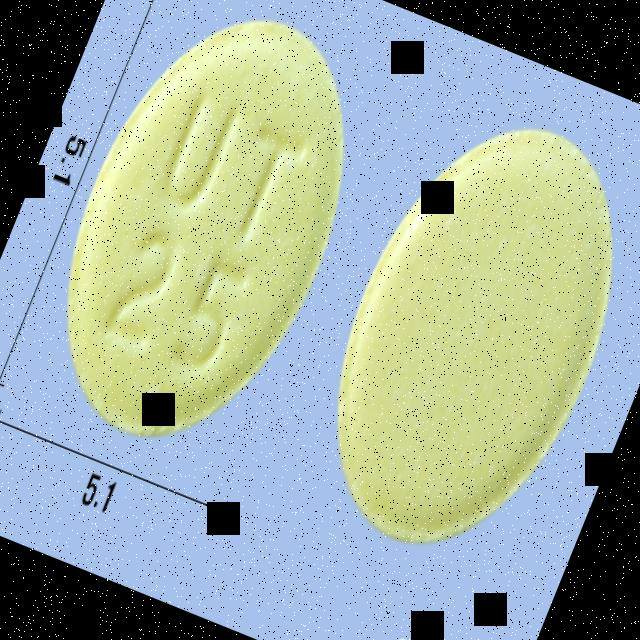Azaprine -25mg: (6, 0, 404, 483)
